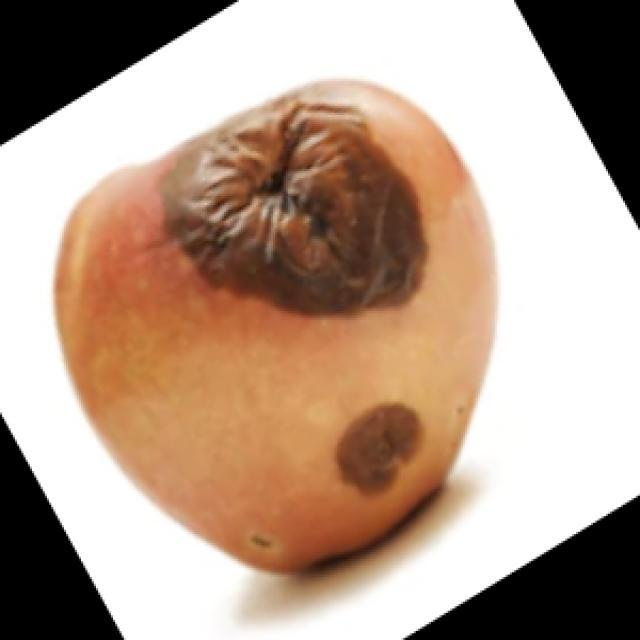Rotten: (46, 77, 502, 585)
